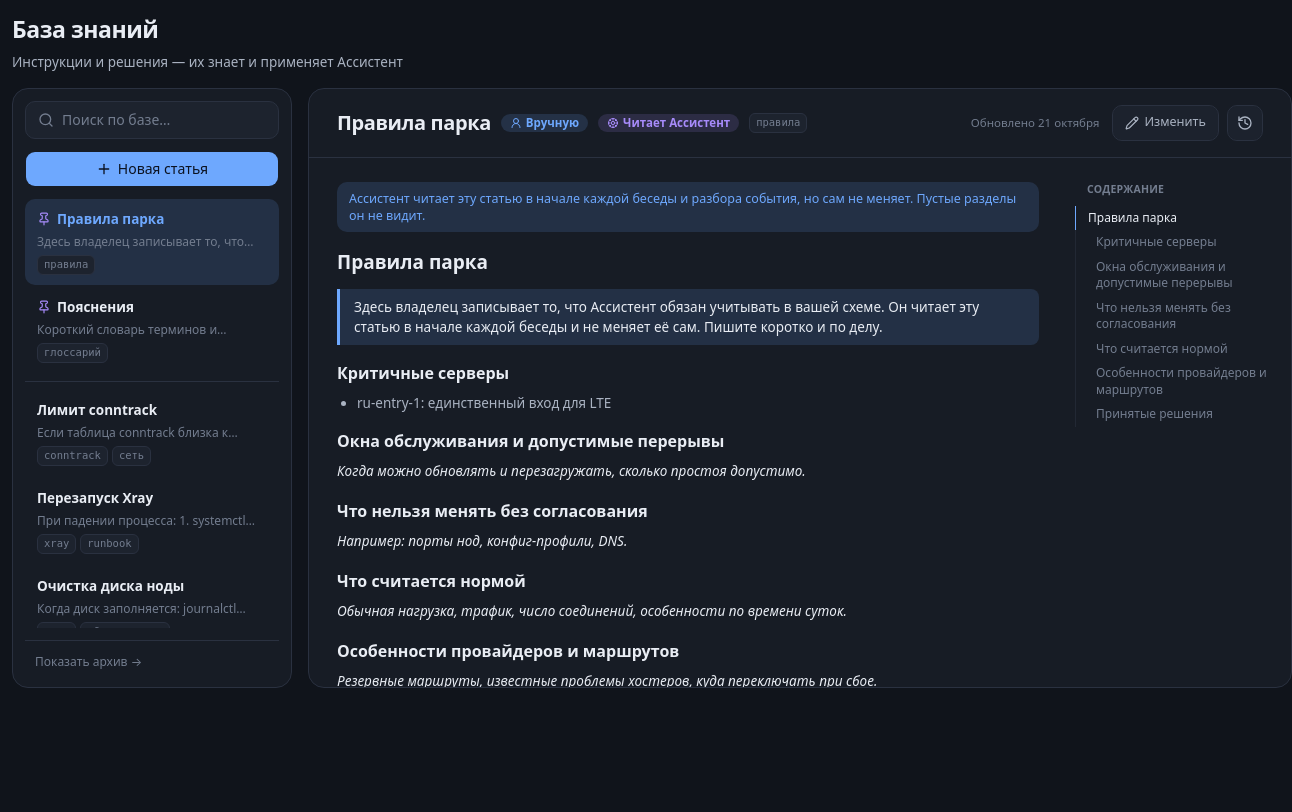
KnowledgePage › список статей и просмотр выбранной
The image size is (1292, 812).
Expected: the heading "Правила парка" is shown, [337, 110, 491, 135]
Expected: the text "Правила парка" is shown, [25, 199, 279, 285]
Step 1. Click the button "Лимит conntrack" → (152, 433), box [25, 390, 279, 476]
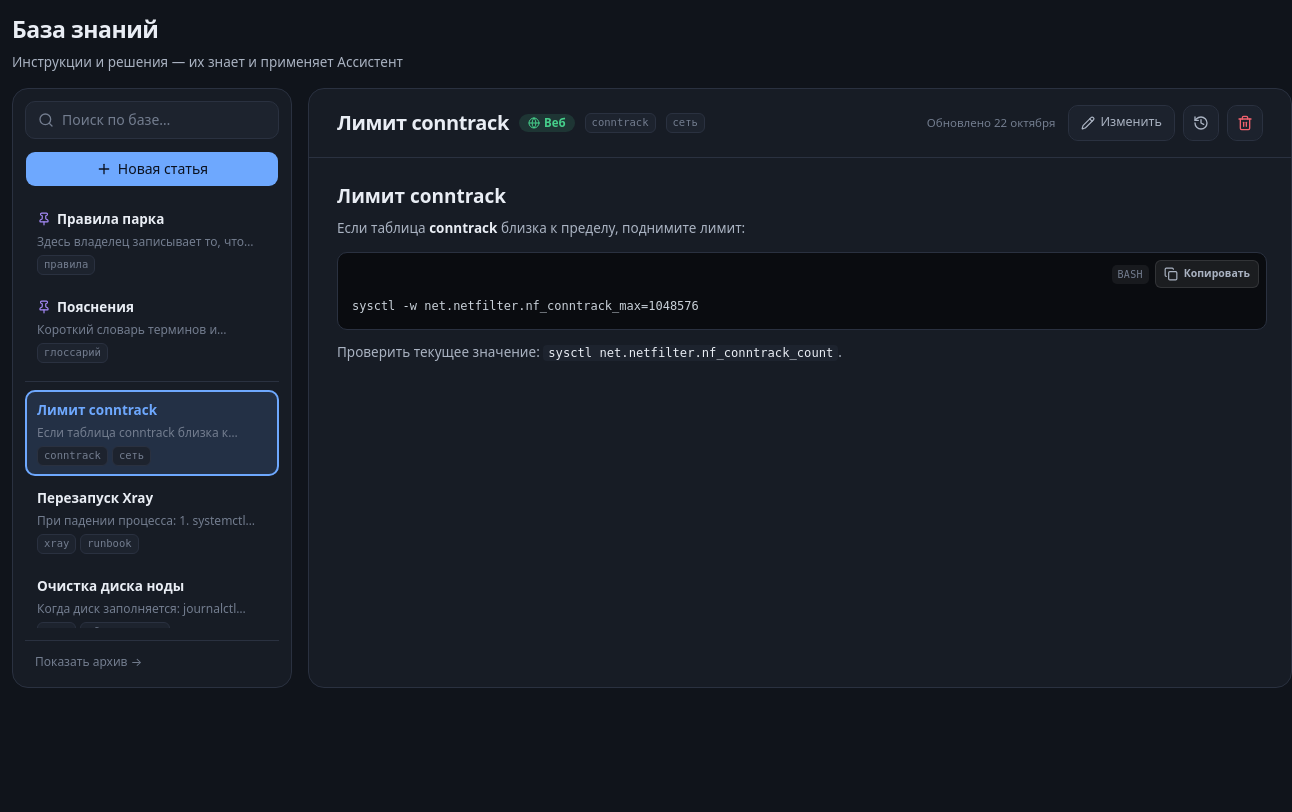
Now the heading "Лимит conntrack" is shown, box [337, 110, 509, 135]
Step 2. Click the button "Перезапуск Xray" → (152, 521), box [25, 478, 279, 564]
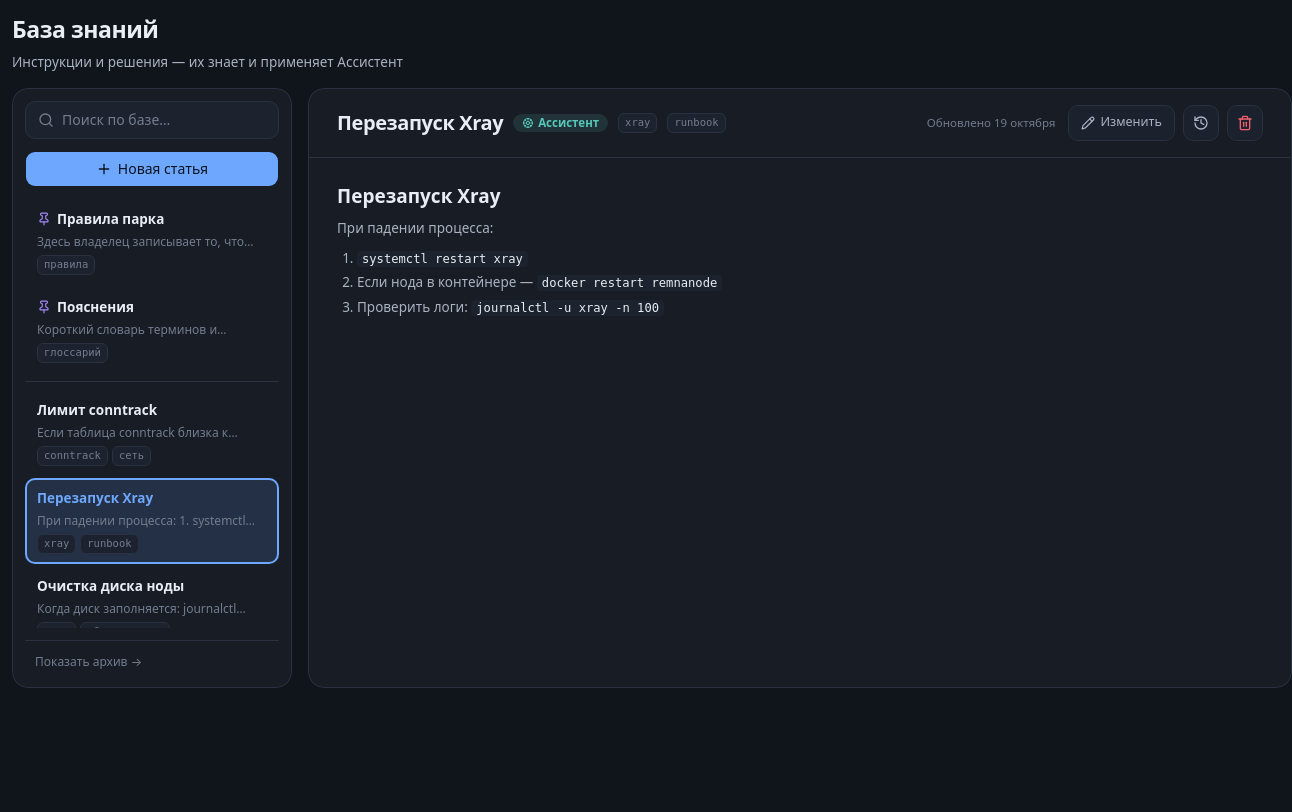
Now the heading "Перезапуск Xray" is shown, box [337, 110, 503, 135]
